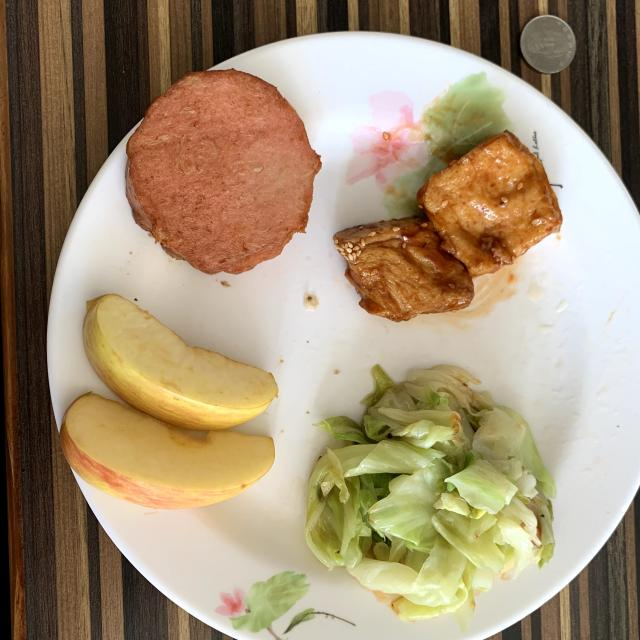Spam: (126, 69, 321, 274)
apple -sliced-: (60, 295, 278, 509)
cabbage: (305, 365, 555, 630)
coin: (520, 15, 576, 74)
creamy tofu: (334, 131, 562, 321)
